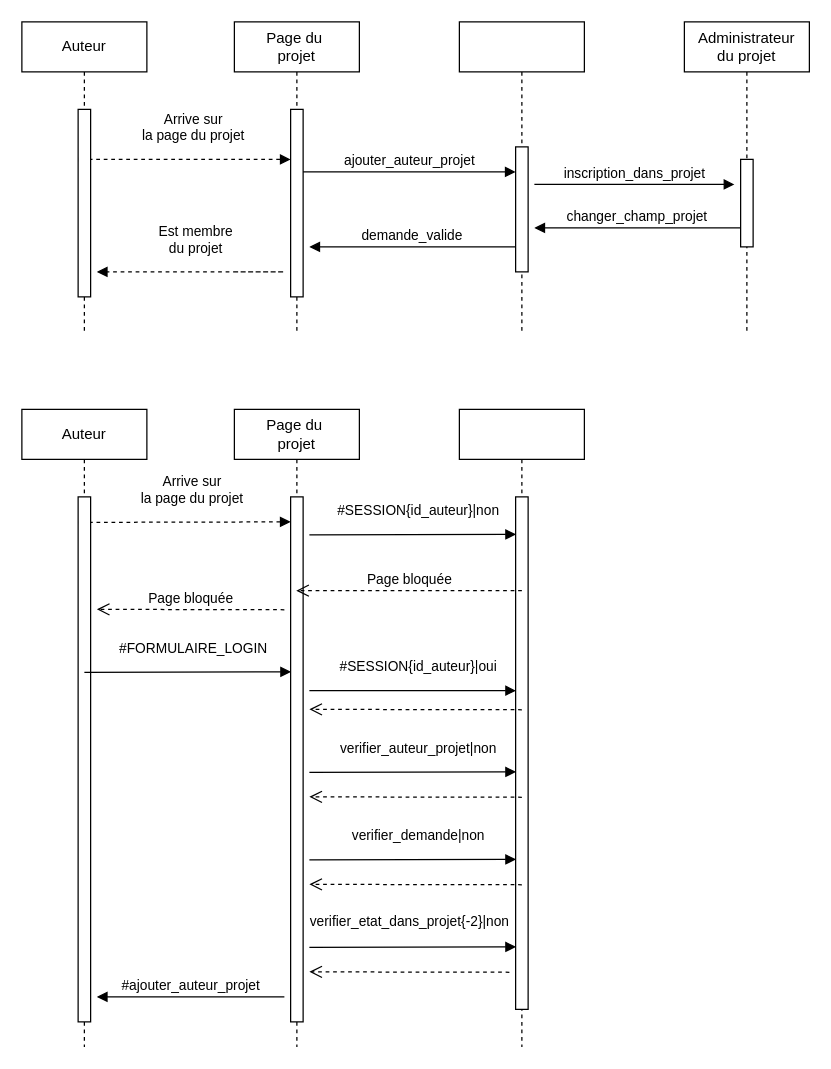
The diagram is 831 pixels wide and 1069 high, and some of its shapes have lost their labels. The box of each missing label's shape, as (x1, y1, x2, y2) in pixels:
Projet: (458, 21, 584, 334)
Site SPIP: (458, 408, 584, 1047)
